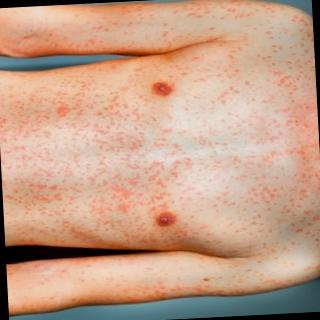urticaria: (44, 101, 158, 141)
